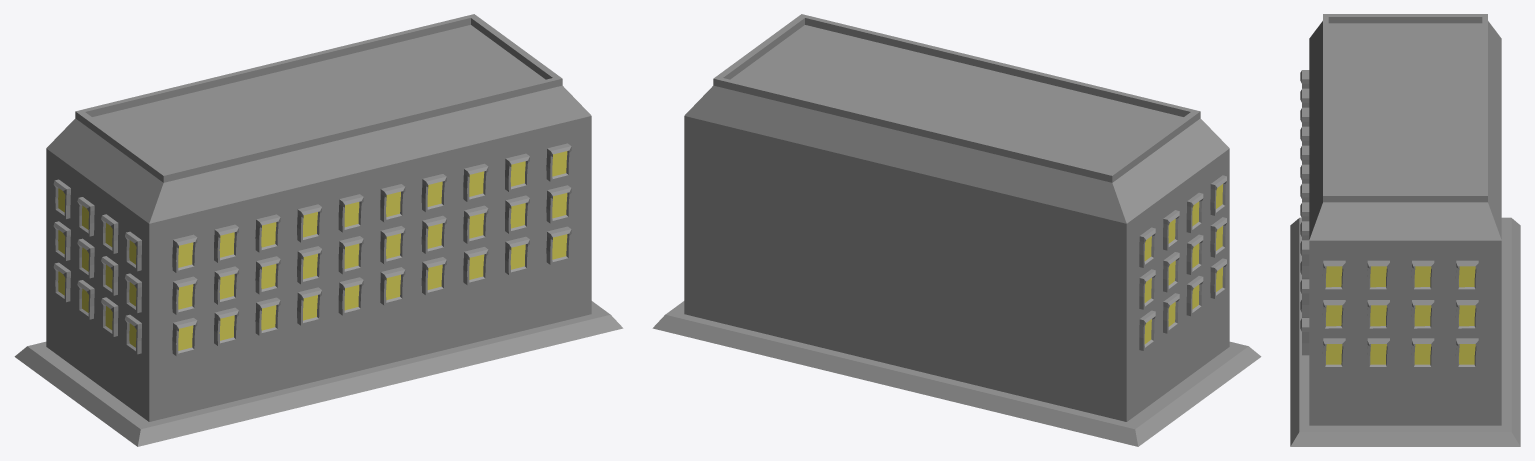
File: SM_Building_BG_03.fbx
3 views of the same model, side by side, from view 1: azimuth 30°, elevation 25°; view 2: azimuth 150°, elevation 25°; view 3: azimuth 270°, elevation 25° (orthographic). The views are drawn at different scales.
Visible parts, largest first — view 1: SM_BG_Building_03; view 2: SM_BG_Building_03; view 3: SM_BG_Building_03.
Part boxes in pixels (x1,y1,x2,y2): SM_BG_Building_03: [14, 14, 623, 446]; SM_BG_Building_03: [652, 14, 1261, 446]; SM_BG_Building_03: [1290, 14, 1520, 446].
Bounding box in the file's own units: 888 × 390 × 432.
